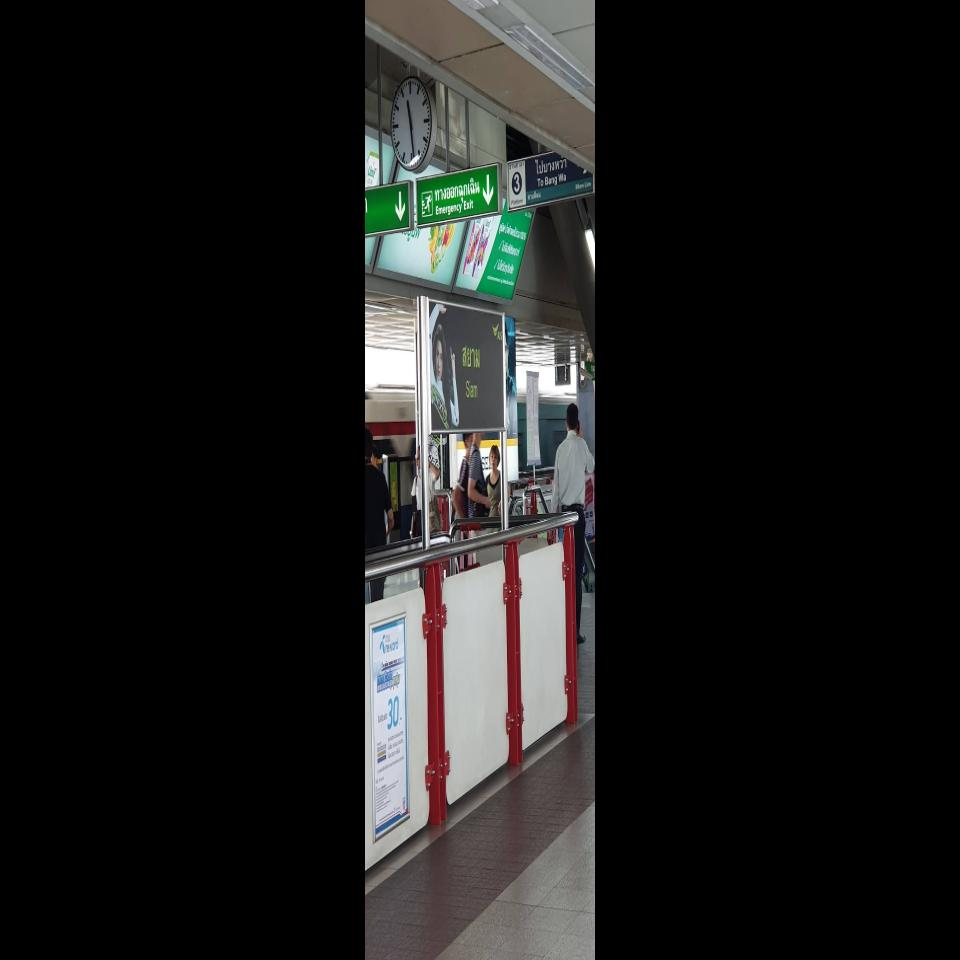signage: (426, 297, 506, 437)
